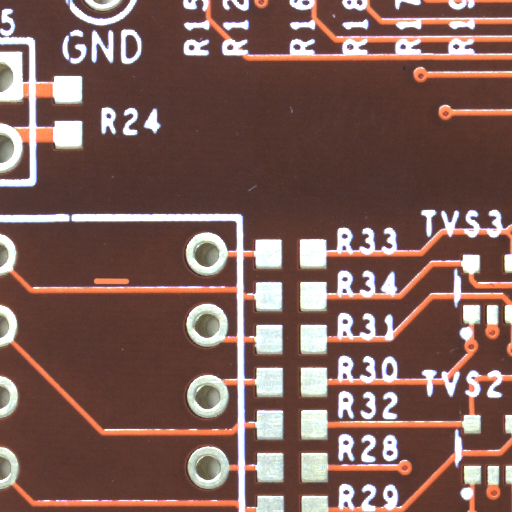Spurious_copper: (110, 281, 150, 290)
